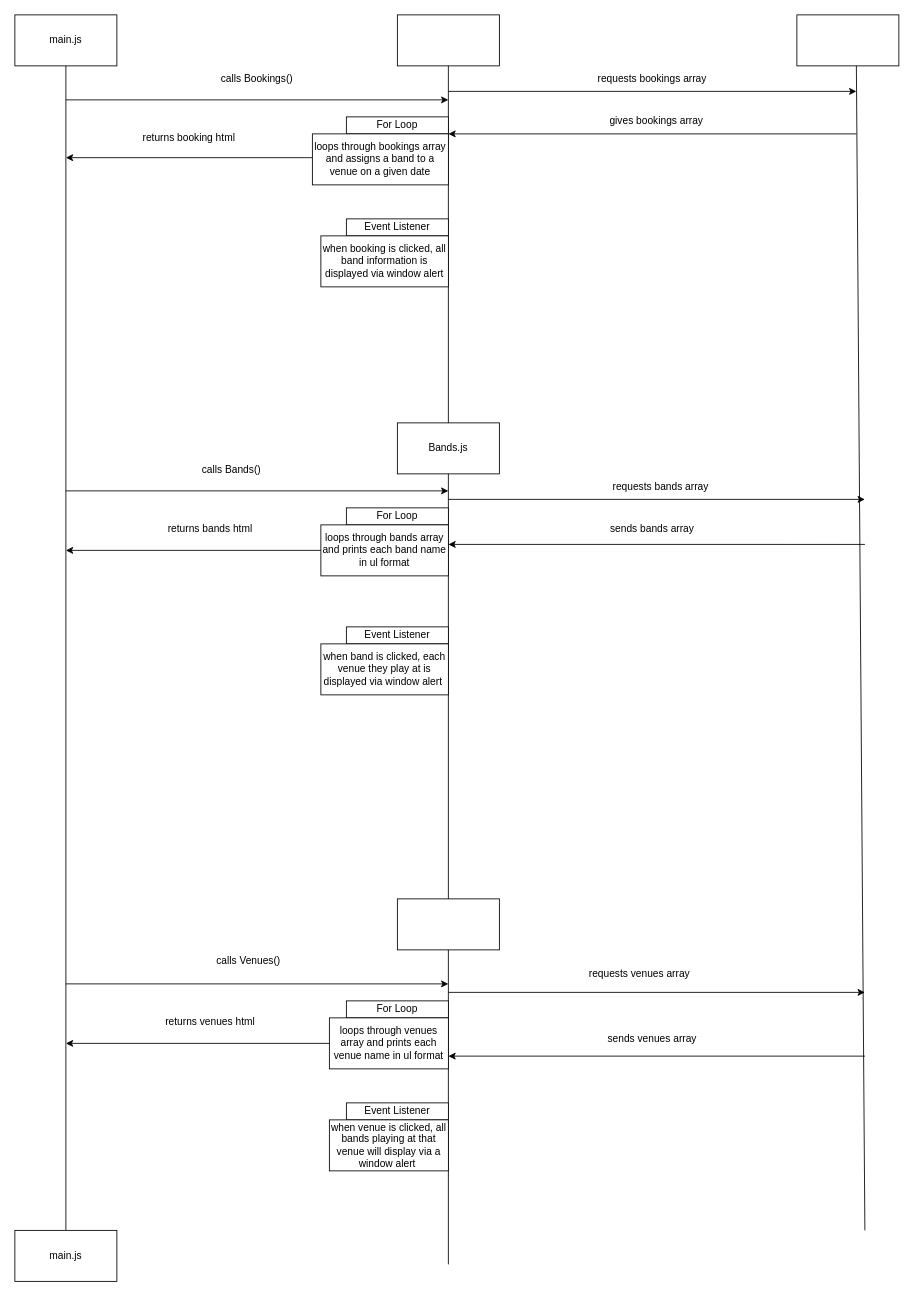
This 914x1296 diagram has some shape labels left out. The shapes that lost their labels are listed below. From the top down, each one's box as (x1, y1, x2, y2) in pixels, then its label:
(397, 14, 499, 66): Bookings.js
(796, 14, 899, 66): database.js
(397, 898, 499, 950): Venues.js
